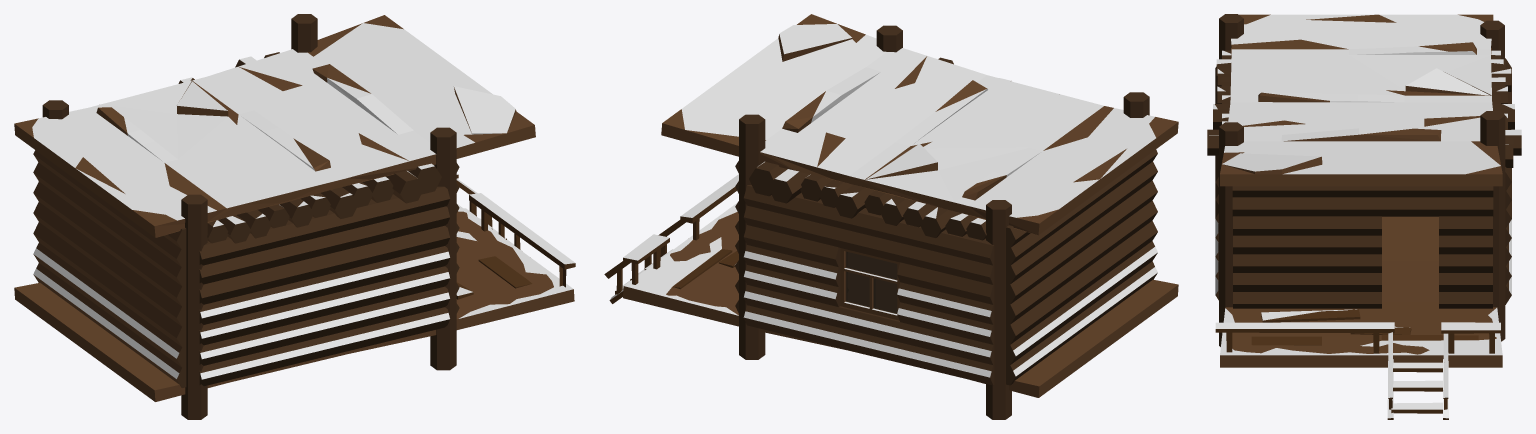
Rendered from cabin.FBX.
3 views of the same model, side by side, from view 1: azimuth 30°, elevation 25°; view 2: azimuth 150°, elevation 25°; view 3: azimuth 270°, elevation 25° (orthographic). The views are drawn at different scales.
Parts seen in each view (by area): view 1: cabin; view 2: cabin; view 3: cabin.
Boxes of the visible parts, left/top/right/bottom form: cabin: left=14, top=14, right=575, bottom=419; cabin: left=604, top=14, right=1178, bottom=419; cabin: left=1207, top=14, right=1521, bottom=419.
Size of the model in its own units: 544 by 275 by 340.
